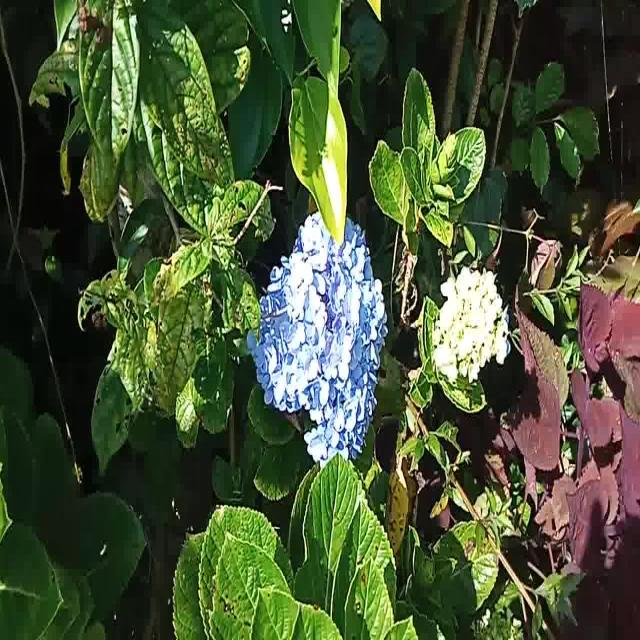Flower: (249, 203, 387, 467), (432, 259, 510, 385)
